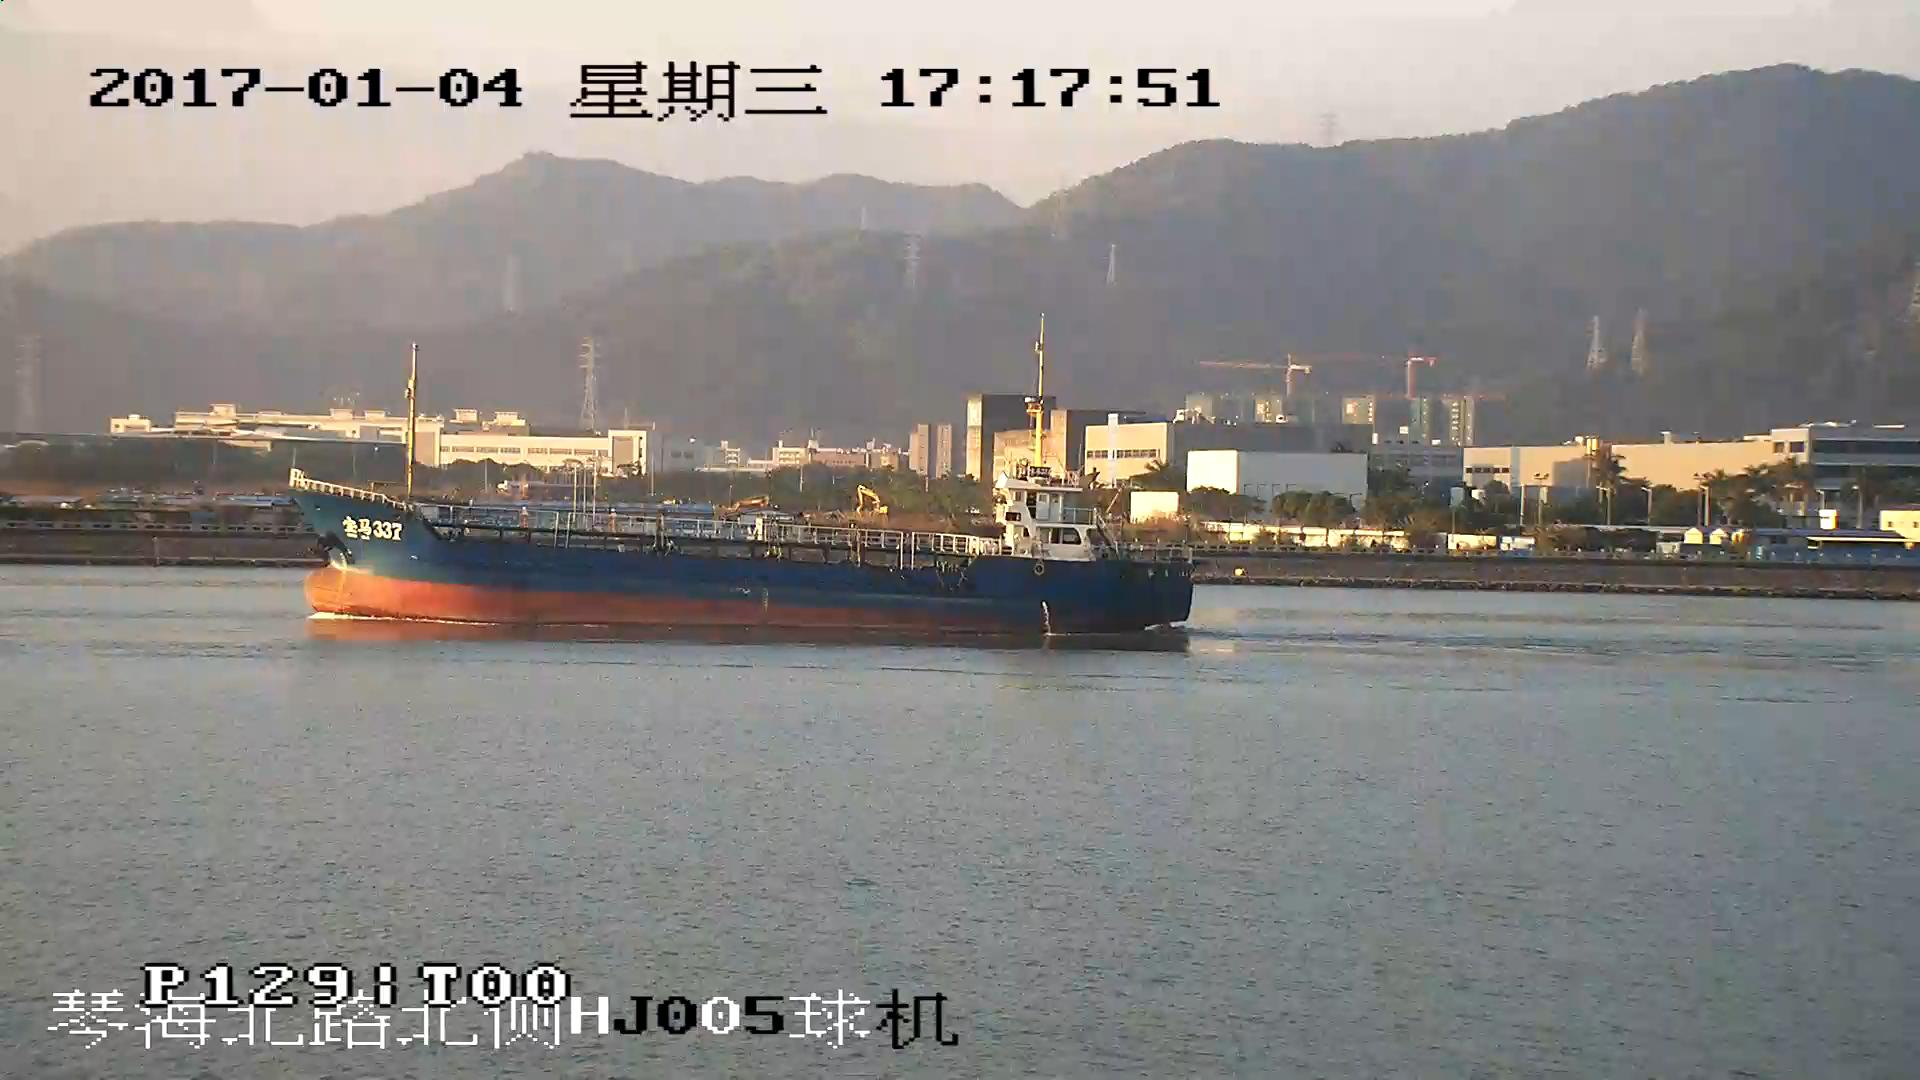general cargo ship: (292, 328, 1194, 637)
